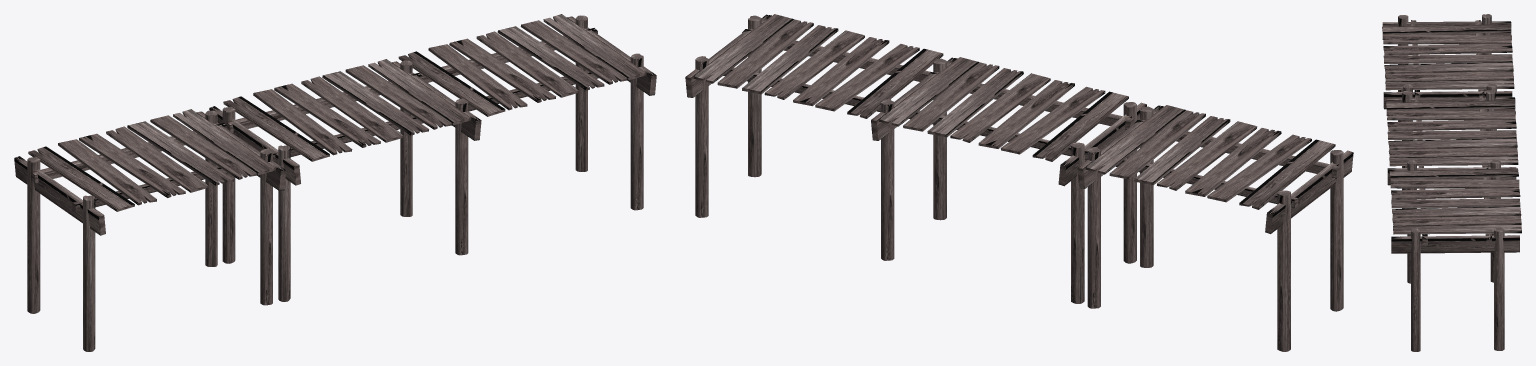
File: Wooden bridge_Collection.fbx
3 renders of one model, left to right at view 1: azimuth 30°, elevation 25°; view 2: azimuth 150°, elevation 25°; view 3: azimuth 270°, elevation 25°, orthographic. The views are drawn at different scales.
Parts seen in each view (by area): view 1: tru 2, tru 4.002, tru 4.001, tru 1.002, van4.002, van4.001, van1, van1.001, van4, tru 4, van 7.002, van1.002 (+26 smaller); view 2: tru 2, tru 1.002, tru 3.001, tru 3.002, tru 3, tru 2.001, van4.001, van4.002, van4, van1, van1.001, van 7 (+26 smaller); view 3: cot ngang 2.002, tru 3.002, van3, van3.002, van3.001, van2.002, van 5, van2, van 5.001, van2.001, van 5.002, tru 4.002 (+22 smaller).
Boxes of the visible parts, bbox=[...] form: tru 2: bbox=[27, 157, 40, 313]; tru 4.002: bbox=[630, 53, 643, 210]; tru 4.001: bbox=[455, 98, 468, 255]; tru 1.002: bbox=[83, 195, 95, 351]; van4.002: bbox=[476, 31, 579, 97]; van4.001: bbox=[301, 76, 404, 142]; van1: bbox=[28, 146, 134, 211]; van1.001: bbox=[223, 96, 329, 161]; van4: bbox=[106, 126, 208, 192]; tru 4: bbox=[260, 148, 272, 305]; van 7.002: bbox=[543, 14, 646, 80]; van1.002: bbox=[398, 51, 505, 116]; tru 2: bbox=[1277, 190, 1290, 351]; tru 1.002: bbox=[1330, 150, 1343, 311]; tru 3.001: bbox=[881, 99, 894, 260]; tru 3.002: bbox=[695, 56, 708, 217]; tru 3: bbox=[1087, 147, 1100, 308]; tru 2.001: bbox=[1071, 142, 1084, 303]; van4.001: bbox=[950, 73, 1050, 142]; van4.002: bbox=[764, 30, 864, 99]; van4: bbox=[1157, 121, 1257, 190]; van1: bbox=[1239, 139, 1335, 209]; van1.001: bbox=[1032, 91, 1128, 161]; van 7: bbox=[1085, 105, 1185, 174]; cot ngang 2.002: bbox=[1391, 235, 1519, 253]; tru 3.002: bbox=[1494, 227, 1504, 350]; van3: bbox=[1383, 43, 1512, 55]; van3.002: bbox=[1391, 187, 1520, 199]; van3.001: bbox=[1387, 119, 1516, 131]; van2.002: bbox=[1390, 179, 1519, 188]; van 5: bbox=[1384, 62, 1513, 73]; van2: bbox=[1383, 34, 1511, 44]; van 5.001: bbox=[1388, 138, 1517, 149]; van2.001: bbox=[1387, 111, 1515, 120]; van 5.002: bbox=[1392, 206, 1521, 218]; tru 4.002: bbox=[1411, 228, 1420, 351].
Bounding box in the file's own units: 723 × 183 × 195.
1 material, 1 textured.
